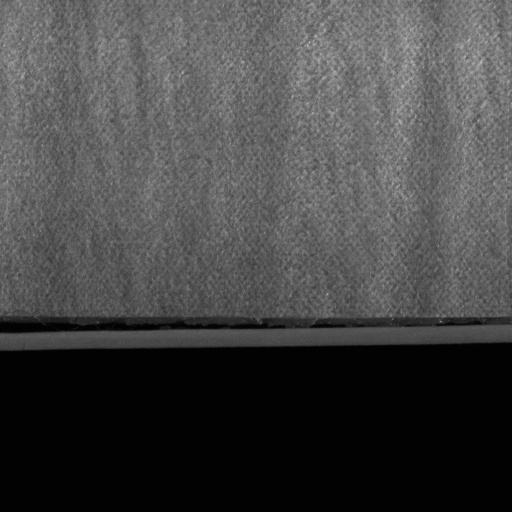kaijiao: (0, 308, 511, 352)
